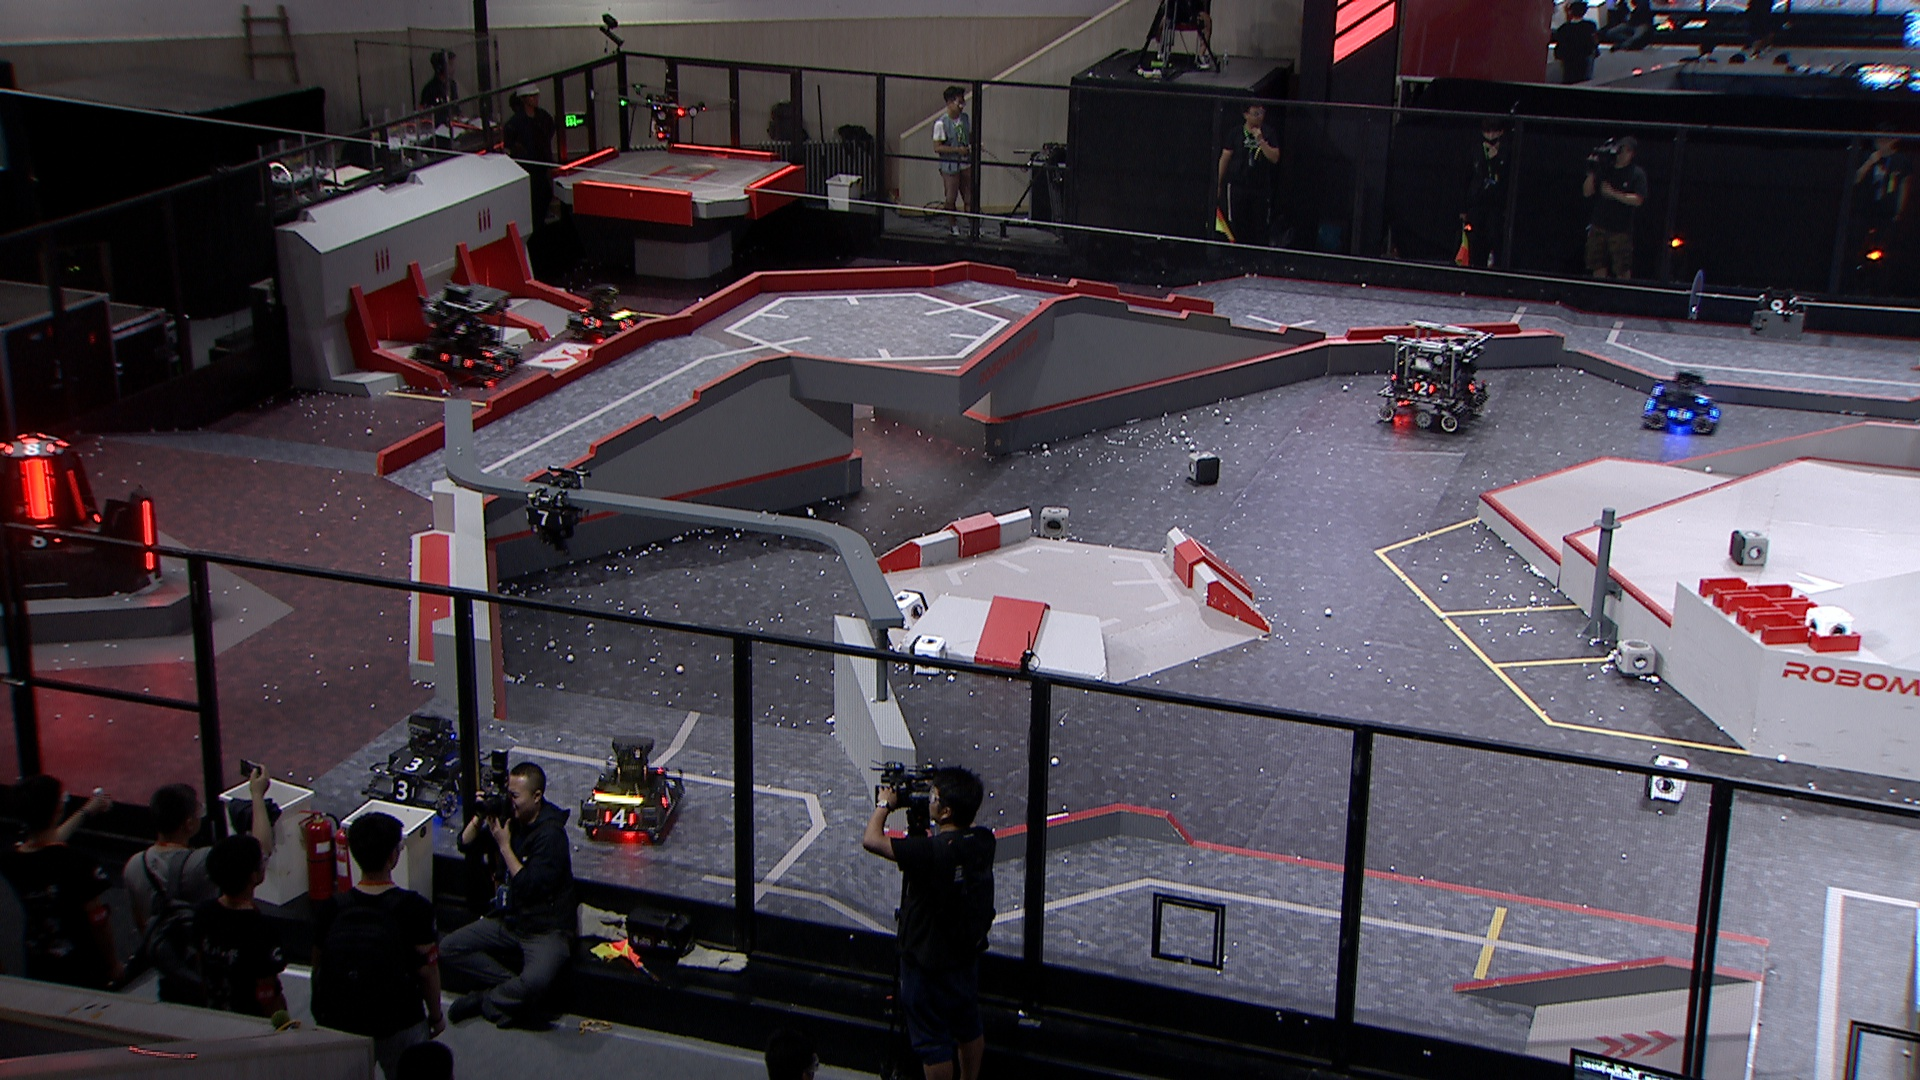armor: (17, 458, 58, 522), (63, 469, 91, 522), (138, 498, 157, 572), (3, 439, 57, 458), (392, 754, 436, 775), (386, 777, 415, 803), (21, 531, 62, 550), (524, 509, 564, 527), (603, 807, 636, 829), (438, 352, 476, 371), (489, 353, 517, 373), (1665, 404, 1693, 422), (657, 785, 678, 808), (1411, 381, 1437, 396), (481, 342, 505, 357), (582, 316, 604, 330), (1693, 390, 1712, 405), (615, 316, 636, 328), (1466, 377, 1481, 394)
car: (359, 707, 487, 820), (1375, 316, 1495, 433), (575, 731, 688, 843), (409, 282, 520, 385), (1642, 367, 1724, 434), (564, 282, 641, 347)
watcher: (522, 462, 593, 560)
